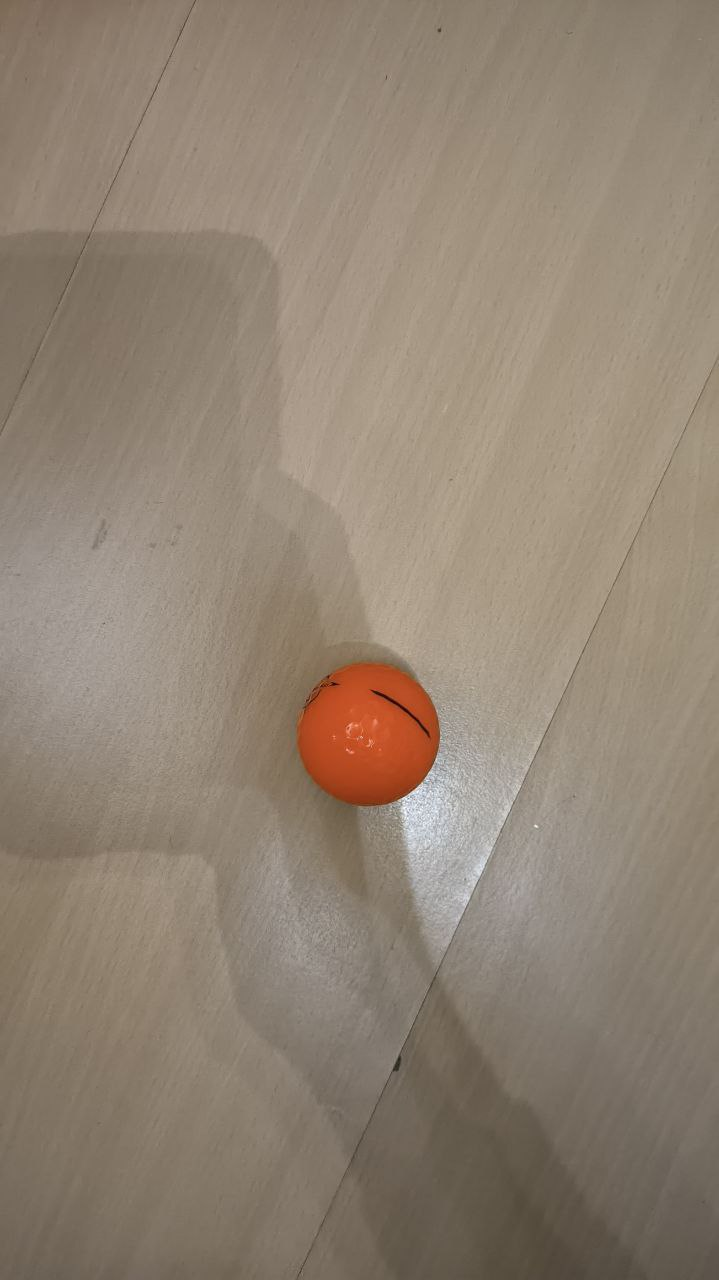orange_ball: (297, 662, 440, 806)
